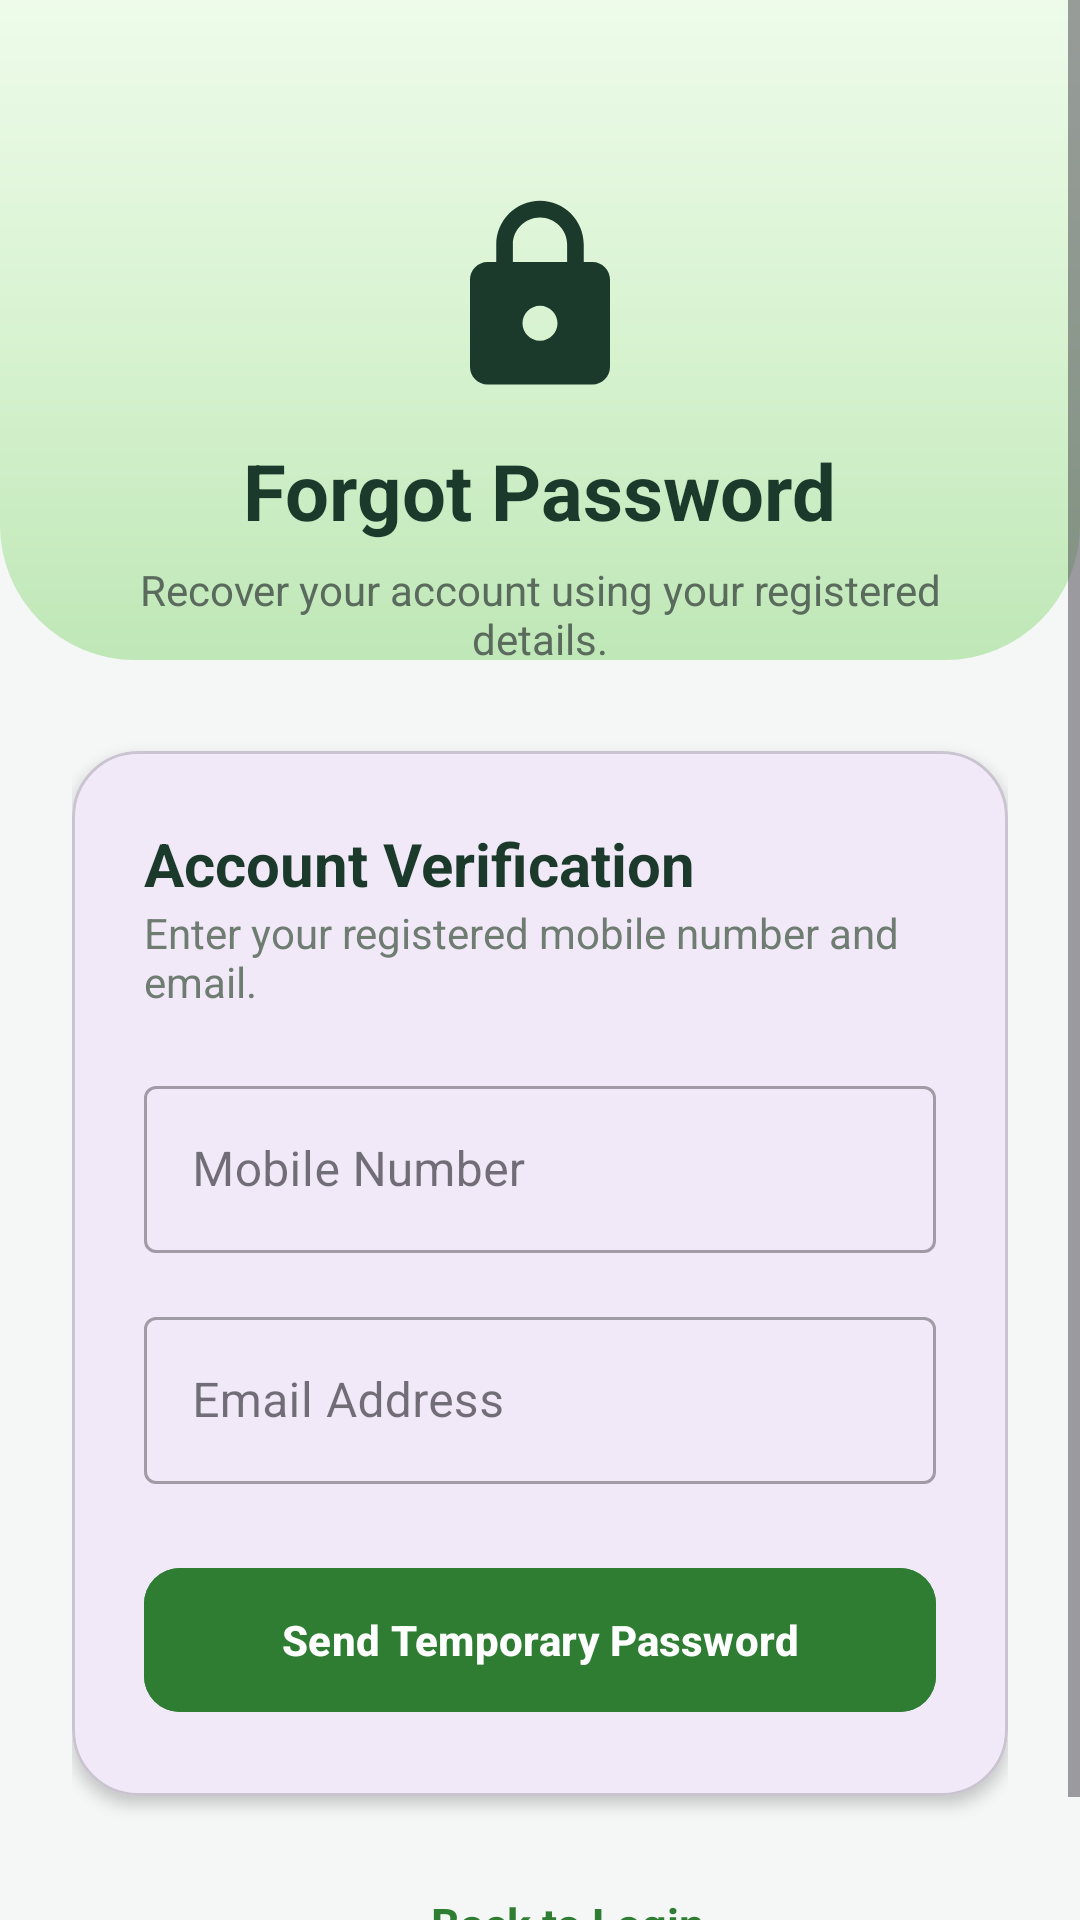

Point at icon controls on the screen. Image size 1080w x 1920h, points as (x=x, y=y).
lock: (x=540, y=292)
